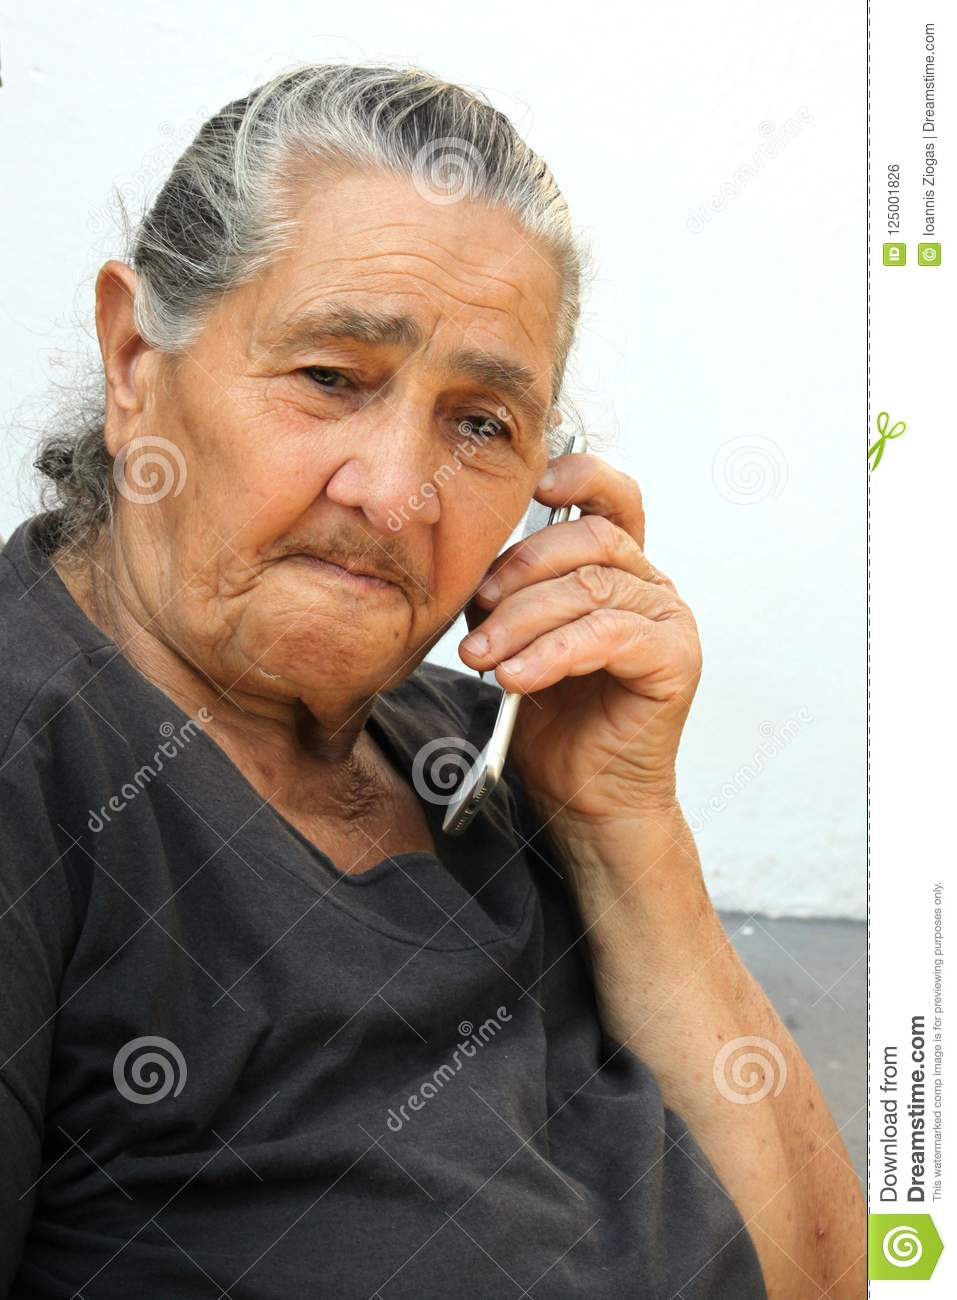phone: (432, 421, 591, 833)
talk: (198, 285, 712, 878)
